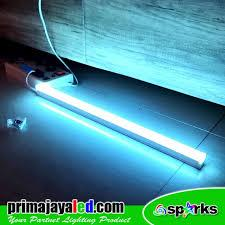Lamp: (25, 73, 210, 176)
